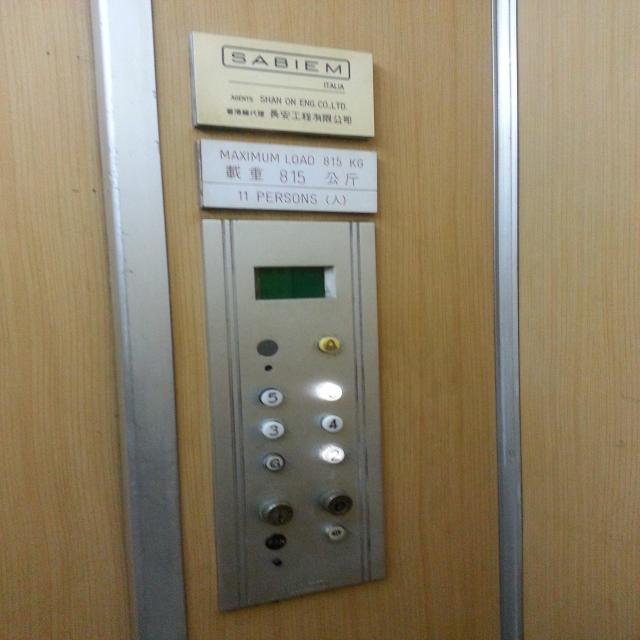2: (321, 445, 346, 465)
3: (261, 420, 285, 439)
4: (320, 414, 344, 433)
5: (259, 388, 284, 407)
G: (261, 453, 285, 472)
alarm: (317, 335, 341, 355)
blur: (319, 487, 353, 515), (318, 380, 342, 402)
empty: (255, 337, 280, 358)
keyhole: (258, 496, 294, 525)
led: (252, 264, 335, 300)
open: (323, 523, 346, 542)
text_blur: (264, 532, 288, 550)
